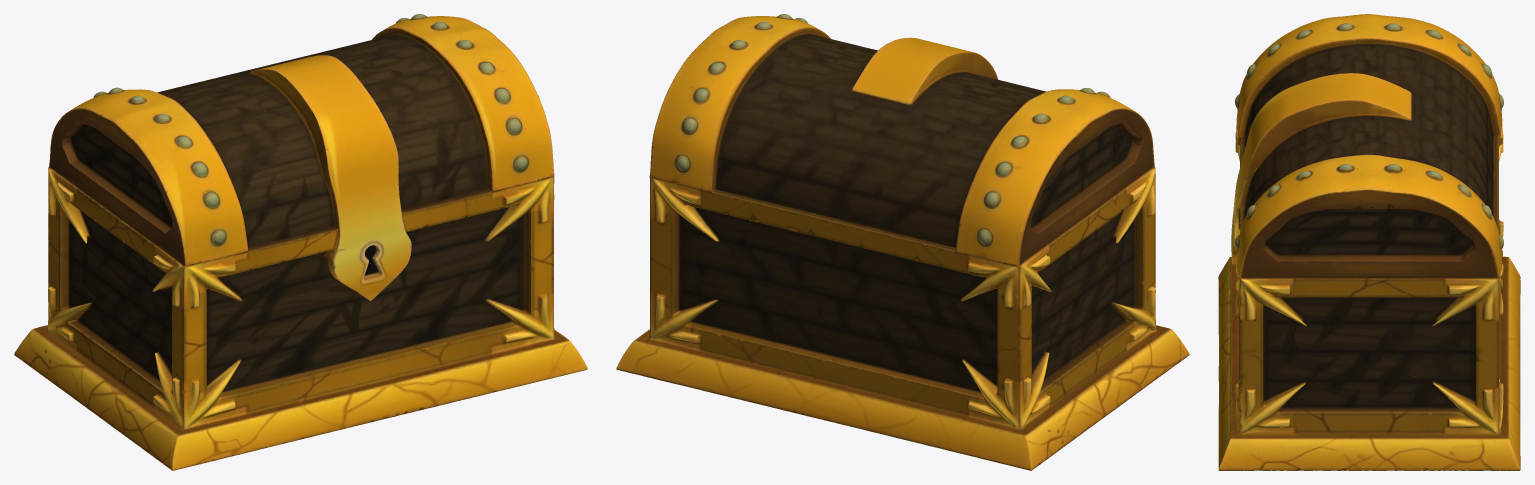
File: Ruong_dong.fbx
The picture shows the model from 3 angles, left to right: view 1: azimuth 30°, elevation 25°; view 2: azimuth 150°, elevation 25°; view 3: azimuth 270°, elevation 25°; orthographic projection. The views are drawn at different scales.
Visible parts, largest first — view 1: Mesh_0; view 2: Mesh_0; view 3: Mesh_0.
Boxes of the visible parts, x1,y1,x2,y2 form: Mesh_0: (14,14,587,470); Mesh_0: (616,14,1189,470); Mesh_0: (1218,14,1520,470).
Size of the model in its own units: 190 by 132 by 125.
1 material, 1 textured.
